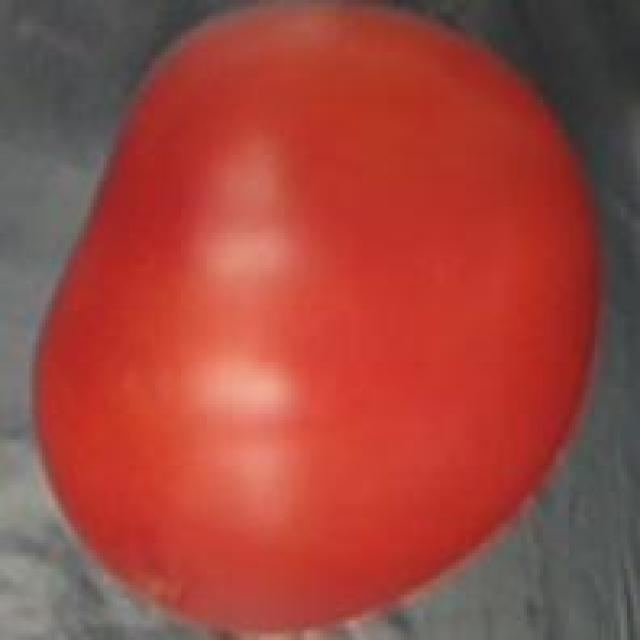ripe tomato: (23, 0, 614, 640)
